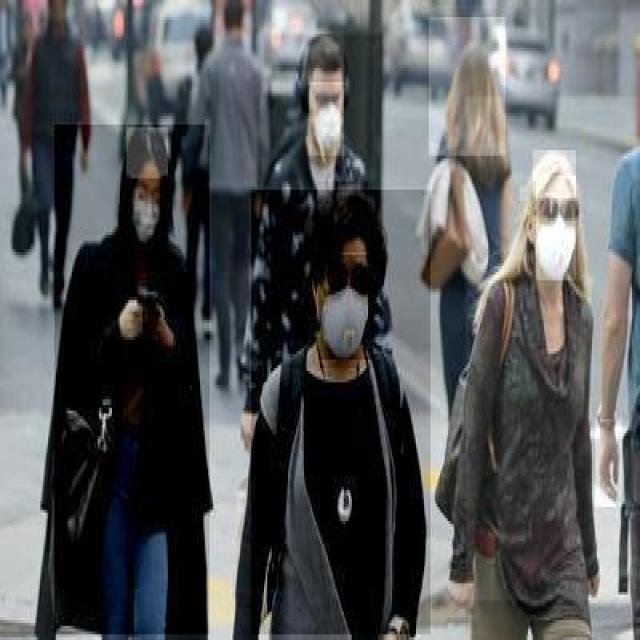face_mask: (318, 255, 373, 360), (536, 176, 578, 283), (309, 82, 344, 156), (130, 176, 163, 243)
glasses: (324, 252, 374, 303), (534, 194, 580, 225)
hand_noglove: (595, 419, 624, 510), (142, 300, 172, 354), (120, 286, 147, 343)
head_nohelmet: (466, 96, 638, 603), (429, 17, 507, 159), (314, 181, 369, 255), (302, 31, 344, 85), (532, 150, 578, 198), (126, 128, 170, 178)
person: (251, 190, 432, 637), (55, 125, 212, 637), (264, 34, 384, 371)
